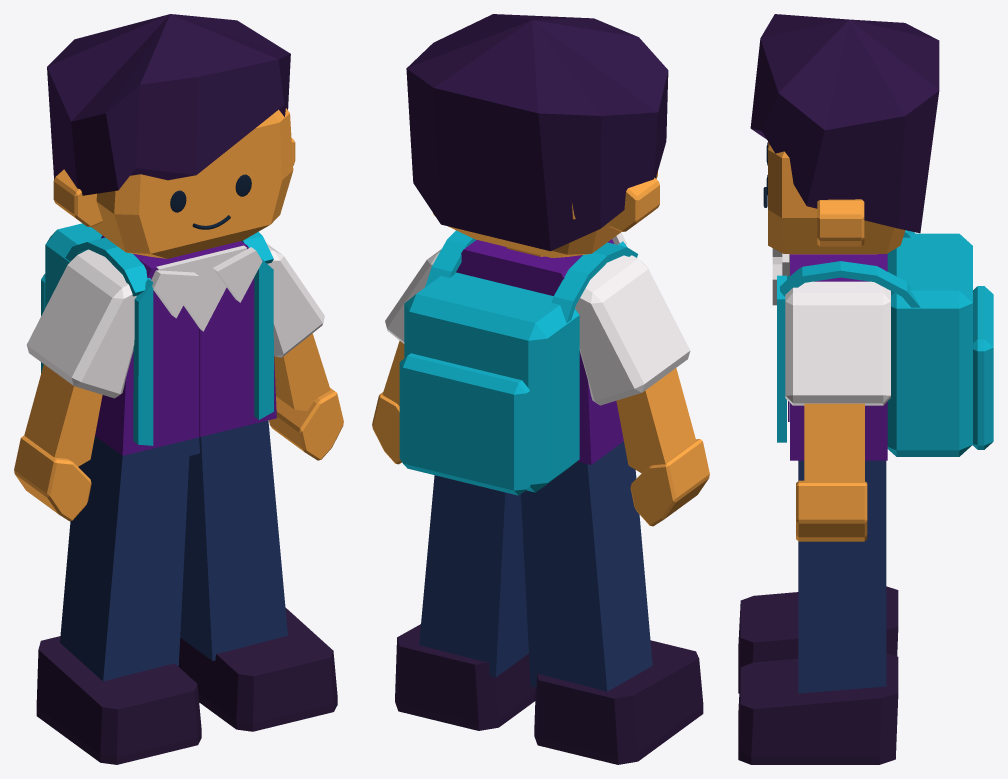
The picture shows the model from 3 angles, left to right: view 1: azimuth 30°, elevation 25°; view 2: azimuth 150°, elevation 25°; view 3: azimuth 270°, elevation 25°; orthographic projection. The views are drawn at different scales.
Visible parts, largest first — view 1: Casco continuo y flequillo diagonal, Pierna pantalon -1, Pierna pantalon 1, Chaleco, Cabeza mejillas y menton, Zapato cuna -1, Zapato cuna 1, Manga ancha -1, Antebrazo inclinado -1, Mano poligonal -1, Manga ancha 1, Tirante pecho -1 (+9 smaller); view 2: Casco continuo y flequillo diagonal, Pierna pantalon -1, Mochila volumen, Pierna pantalon 1, Bolsillo mochila, Zapato cuna -1, Manga ancha -1, Zapato cuna 1, Chaleco, Antebrazo inclinado -1, Mano poligonal -1, Tirante curvo hombro -1 (+6 smaller); view 3: Casco continuo y flequillo diagonal, Mochila volumen, Pierna pantalon 1, Zapato cuna 1, Manga ancha 1, Cabeza mejillas y menton, Zapato cuna -1, Antebrazo inclinado 1, Mano poligonal 1, Chaleco, Bolsillo mochila, Tirante curvo hombro 1 (+2 smaller).
Part boxes in pixels (x1=…): Casco continuo y flequillo diagonal: x1=47, y1=14, x2=290, y2=195; Pierna pantalon -1: x1=60, y1=436, x2=189, y2=681; Pierna pantalon 1: x1=180, y1=420, x2=287, y2=660; Chaleco: x1=95, y1=235, x2=276, y2=455; Cabeza mejillas y menton: x1=91, y1=108, x2=293, y2=258; Zapato cuna -1: x1=36, y1=636, x2=201, y2=764; Zapato cuna 1: x1=178, y1=607, x2=337, y2=731; Manga ancha -1: x1=26, y1=249, x2=136, y2=398; Antebrazo inclinado -1: x1=24, y1=364, x2=102, y2=466; Mano poligonal -1: x1=14, y1=435, x2=91, y2=521; Manga ancha 1: x1=266, y1=243, x2=324, y2=357; Tirante pecho -1: x1=133, y1=279, x2=153, y2=445; Casco continuo y flequillo diagonal: x1=406, y1=14, x2=668, y2=251; Pierna pantalon -1: x1=521, y1=441, x2=652, y2=691; Mochila volumen: x1=404, y1=272, x2=579, y2=492; Pierna pantalon 1: x1=419, y1=475, x2=528, y2=677; Bolsillo mochila: x1=399, y1=353, x2=530, y2=495; Zapato cuna -1: x1=534, y1=640, x2=703, y2=764; Manga ancha -1: x1=575, y1=255, x2=690, y2=405; Zapato cuna 1: x1=395, y1=624, x2=535, y2=730; Chaleco: x1=456, y1=239, x2=623, y2=464; Antebrazo inclinado -1: x1=616, y1=368, x2=696, y2=473; Mano poligonal -1: x1=630, y1=439, x2=709, y2=526; Tirante curvo hombro -1: x1=551, y1=242, x2=637, y2=322; Casco continuo y flequillo diagonal: x1=750, y1=14, x2=939, y2=233; Mochila volumen: x1=887, y1=233, x2=972, y2=456; Pierna pantalon 1: x1=798, y1=460, x2=886, y2=693; Zapato cuna 1: x1=738, y1=653, x2=898, y2=764; Manga ancha 1: x1=785, y1=281, x2=890, y2=405; Cabeza mejillas y menton: x1=768, y1=142, x2=905, y2=254; Zapato cuna -1: x1=738, y1=586, x2=898, y2=693; Antebrazo inclinado 1: x1=804, y1=403, x2=864, y2=482; Mano poligonal 1: x1=796, y1=480, x2=867, y2=541; Chaleco: x1=790, y1=253, x2=887, y2=460; Bolsillo mochila: x1=972, y1=286, x2=993, y2=449; Tirante curvo hombro 1: x1=780, y1=261, x2=920, y2=307.
Size of the model in its own units: 0.4544 by 1 by 0.3365.
